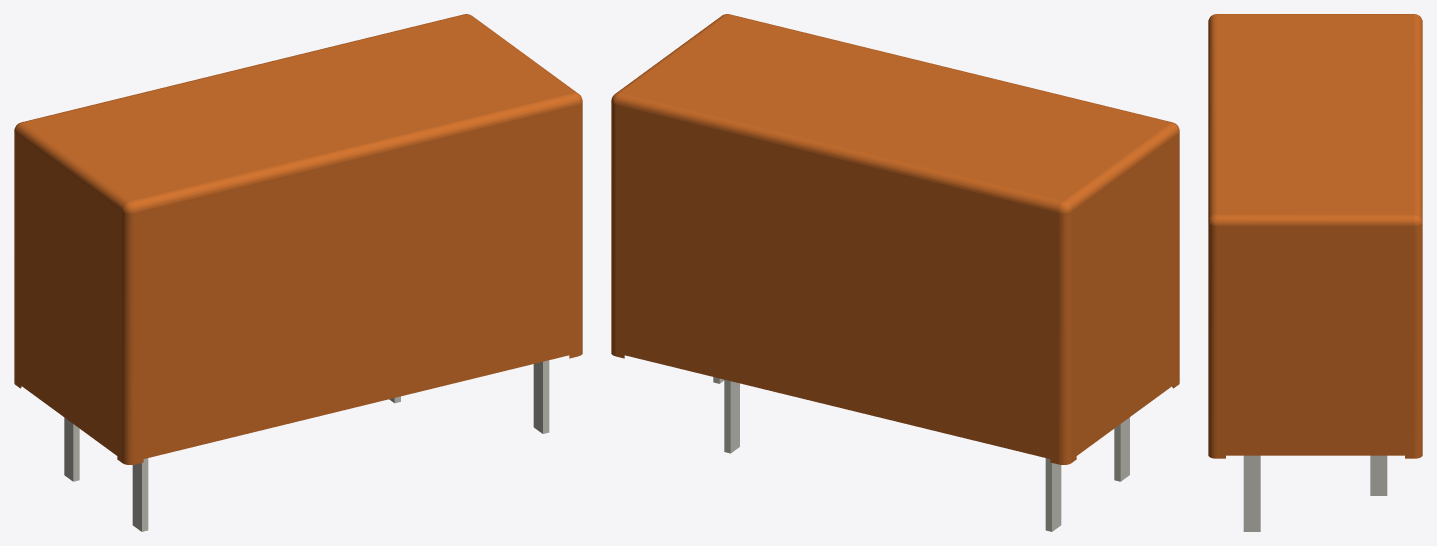
Rendered from kc-relay_spst_schrack-rt1-forma_rm5mm.glb.
The picture shows the model from 3 angles, left to right: view 1: azimuth 30°, elevation 25°; view 2: azimuth 150°, elevation 25°; view 3: azimuth 270°, elevation 25°; orthographic projection. The views are drawn at different scales.
Parts seen in each view (by area): view 1: 0.5833333333333334_0.16666666666666666_0_0, 0.6666666666666666_0.6666666666666666_0.5833333333333334_0.8; view 2: 0.5833333333333334_0.16666666666666666_0_0, 0.6666666666666666_0.6666666666666666_0.5833333333333334_0.8; view 3: 0.5833333333333334_0.16666666666666666_0_0, 0.6666666666666666_0.6666666666666666_0.5833333333333334_0.8.
Boxes of the visible parts, bbox=[...] form: 0.5833333333333334_0.16666666666666666_0_0: bbox=[14, 14, 582, 464]; 0.6666666666666666_0.6666666666666666_0.5833333333333334_0.8: bbox=[64, 360, 549, 531]; 0.5833333333333334_0.16666666666666666_0_0: bbox=[611, 14, 1179, 464]; 0.6666666666666666_0.6666666666666666_0.5833333333333334_0.8: bbox=[713, 377, 1129, 531]; 0.5833333333333334_0.16666666666666666_0_0: bbox=[1208, 14, 1422, 458]; 0.6666666666666666_0.6666666666666666_0.5833333333333334_0.8: bbox=[1243, 455, 1387, 531].
Size of the model in its own units: 2.9 by 2.1 by 1.27.
